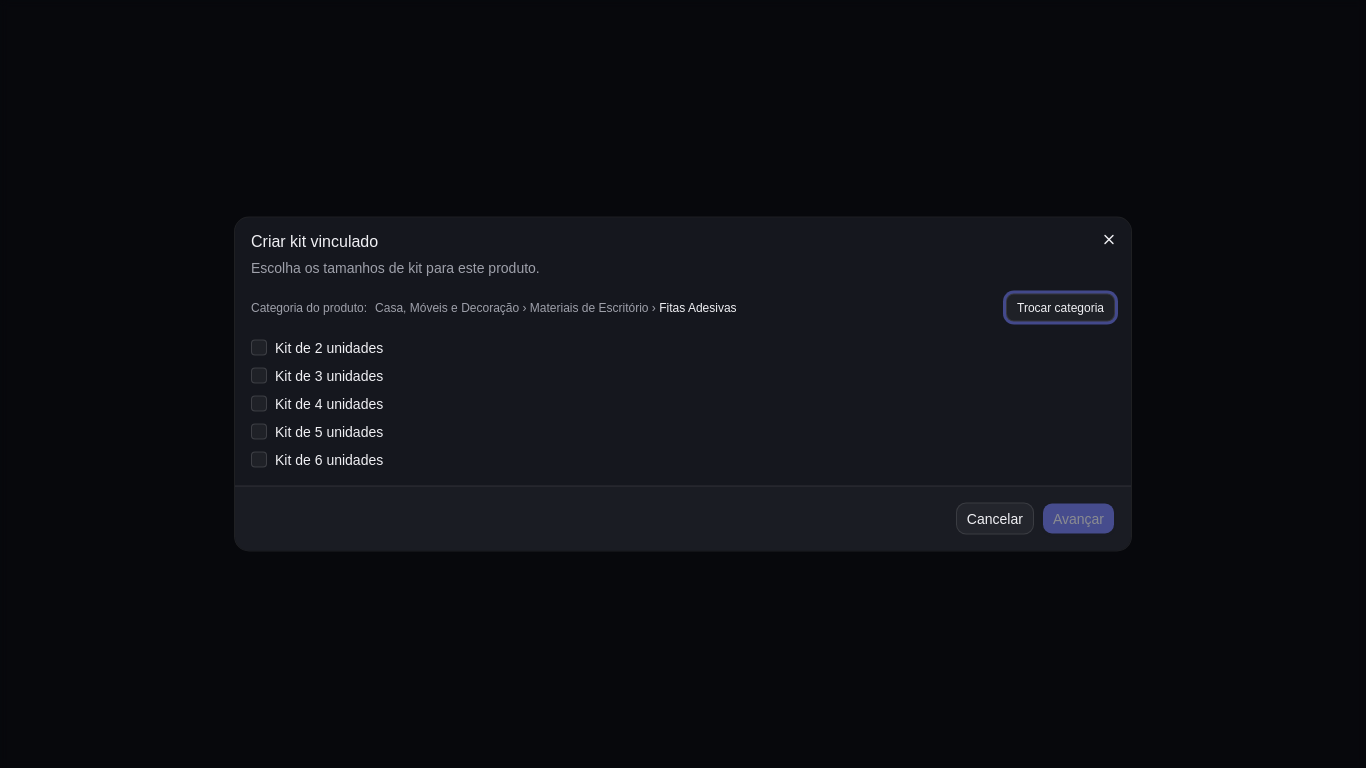
Scenario: Trocar categoria › mostra o caminho completo da categoria da base e o de cada candidato da busca
This screenshot has width=1366, height=768.
Expected: the text "Categoria do produto:" is shown, top-left (251, 300), bottom-right (367, 316)
Expected: the text "Casa, Móveis e Decoração › Materiais de Escritório ›" is shown, top-left (375, 300), bottom-right (659, 314)
// Cenário 2: cada resultado da busca também com o caminho inteiro.
Step 1. Click the button "Trocar categoria" → (1061,308), box top-left (1006, 294), bottom-right (1115, 322)
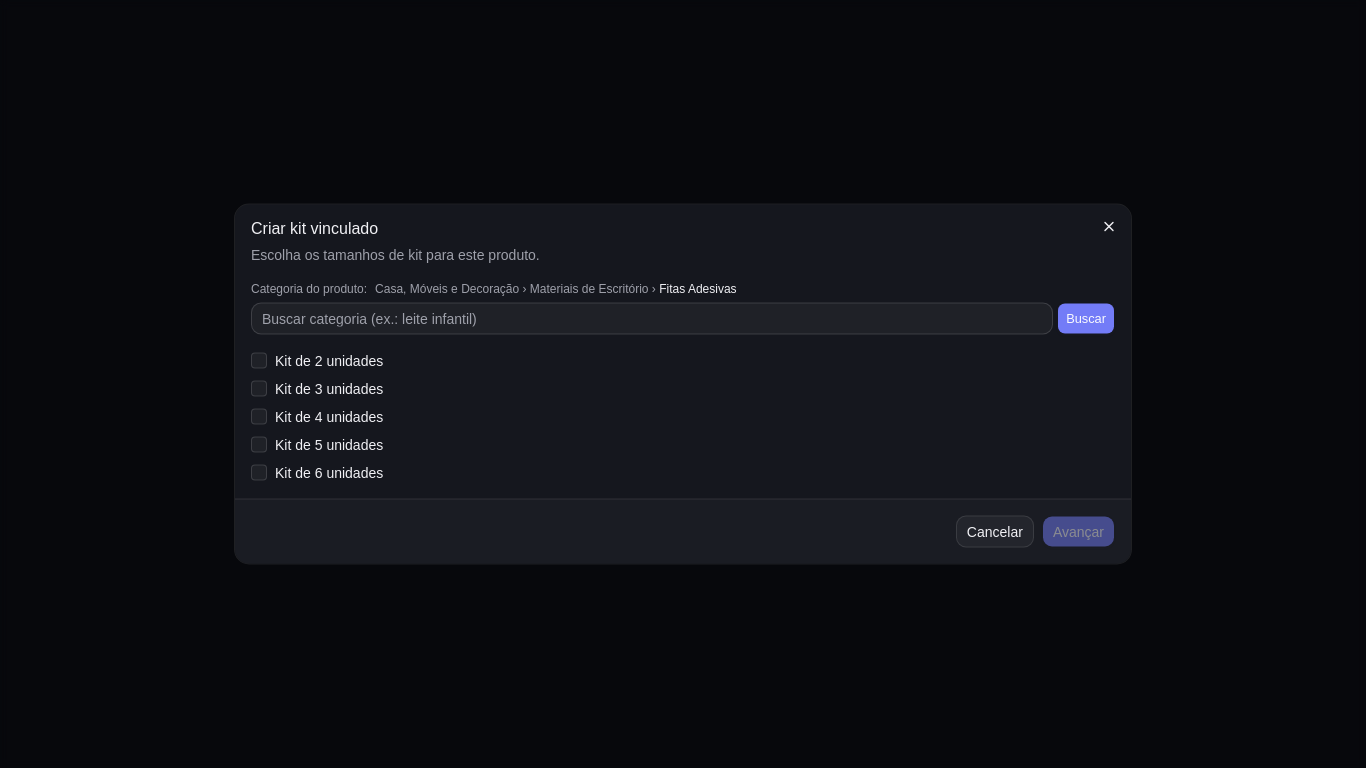
Step 2. Type "leite infantil" into the field with placeholder "Buscar categoria (ex.: leite infantil)" → (652,318), box top-left (251, 302), bottom-right (1053, 334)
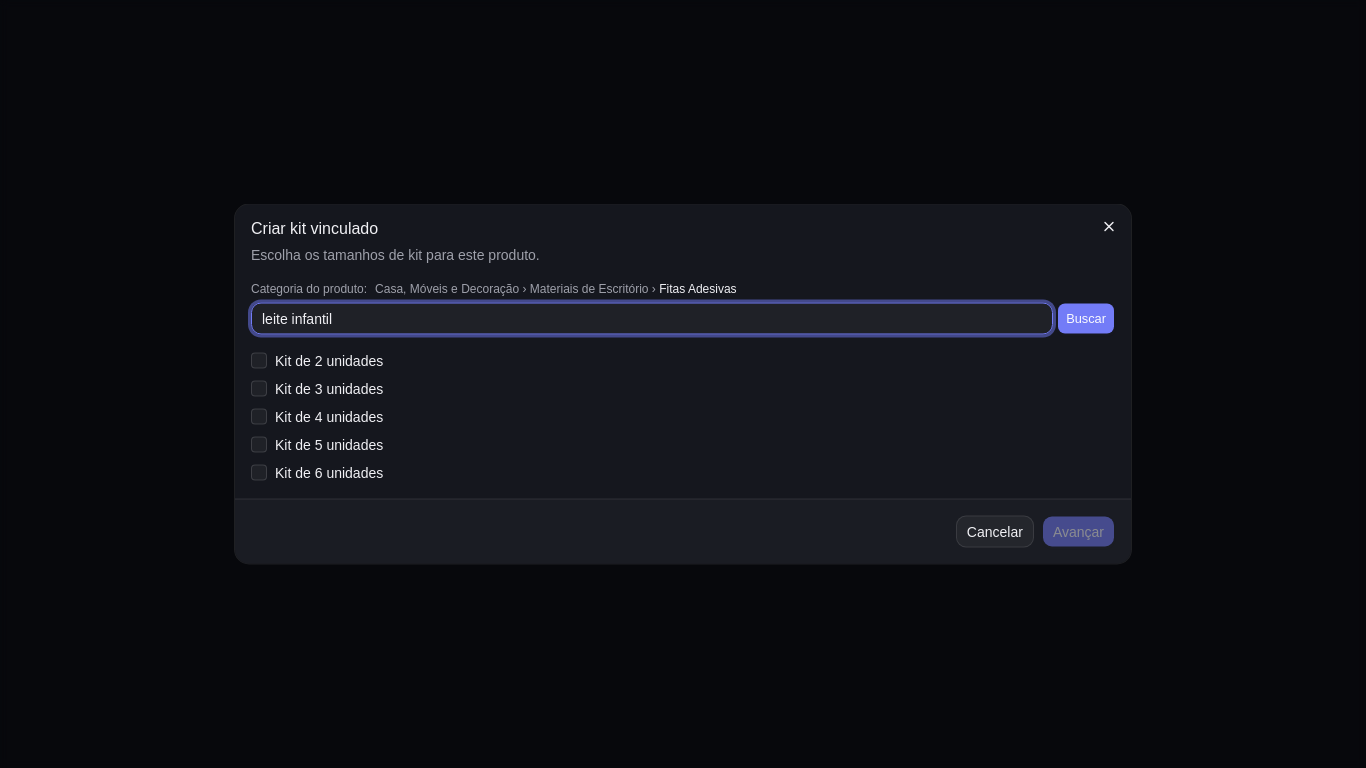
Step 3. Click the button "Buscar" → (1086,318), box top-left (1057, 302), bottom-right (1115, 334)
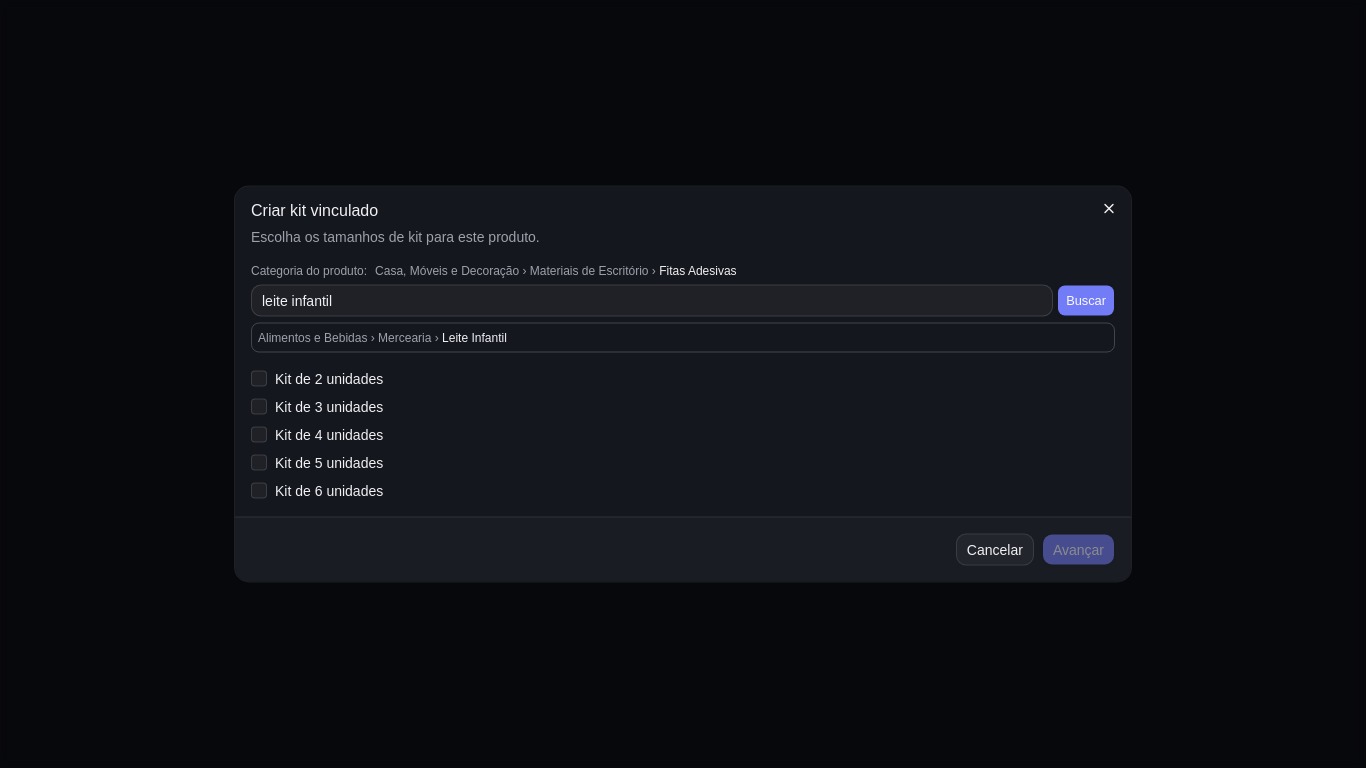
Expected: the text "Alimentos e Bebidas › Mercearia ›" is shown, top-left (258, 330), bottom-right (442, 344)
